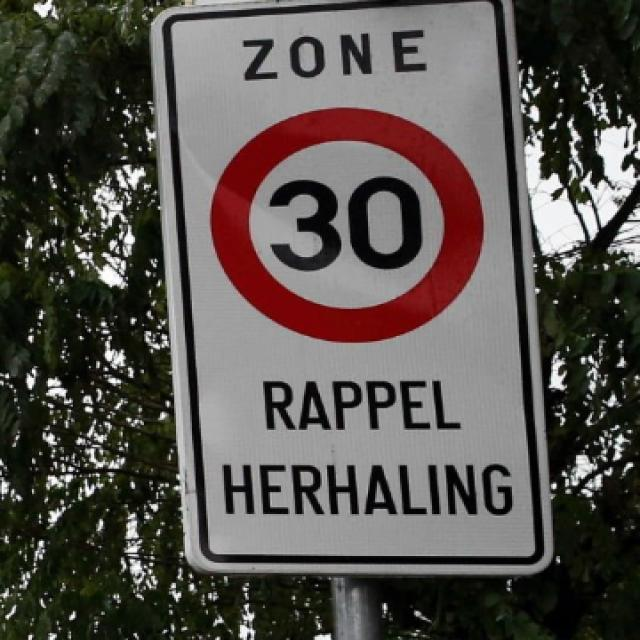Speed limit 30: (209, 105, 486, 344)
